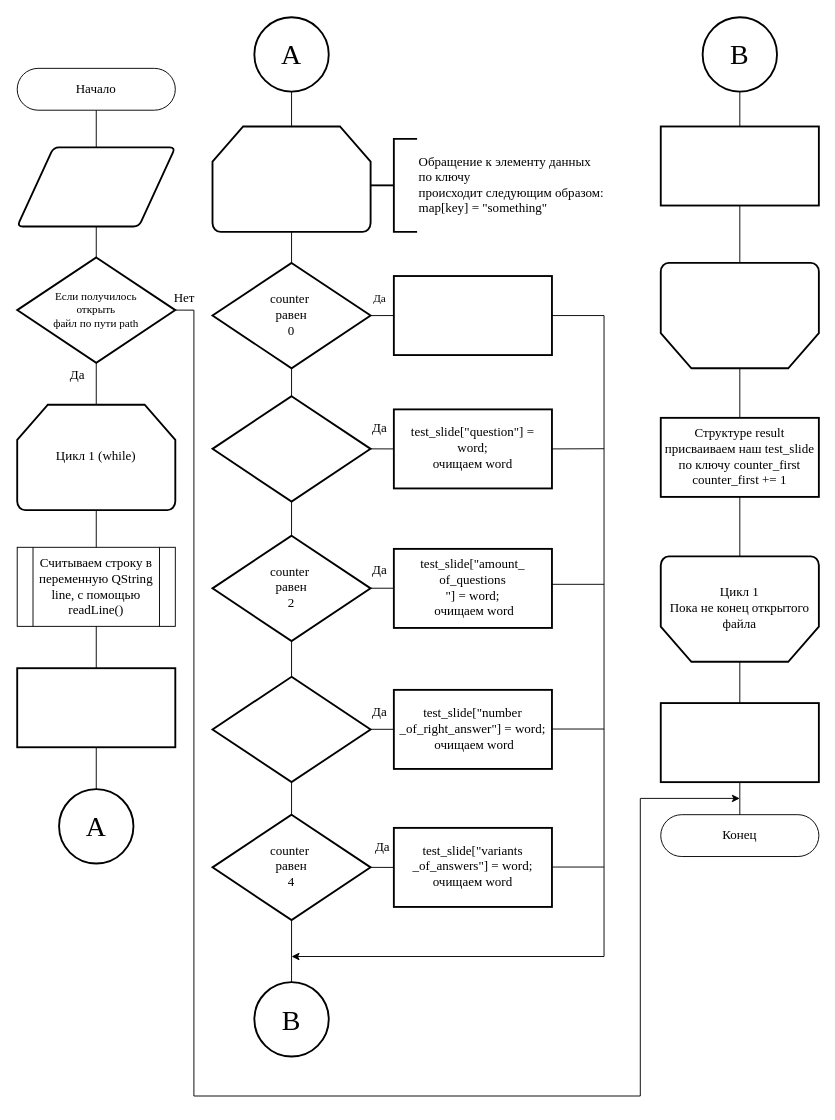
The diagram is 835 pixels wide and 1120 high, and some of its shapes have lost their labels. Each missing label, with the box of its shape:
counter = 0: (16, 667, 176, 748)
counter равен 1: (211, 395, 371, 502)
counter равен 3: (211, 675, 371, 783)
result test_slide counter_first = 0 word: (16, 146, 176, 227)
test_slide["img"] = word; очищаем word: (392, 275, 552, 356)
Возвращаем result как результат функции: (659, 702, 819, 783)
Добавляем к word букву из строки line по текущему индексу цикла: (659, 125, 819, 206)
Цикл 2 (for): (659, 262, 819, 369)
Цикл 2 (for) От 0 до размера line: (211, 125, 371, 232)
